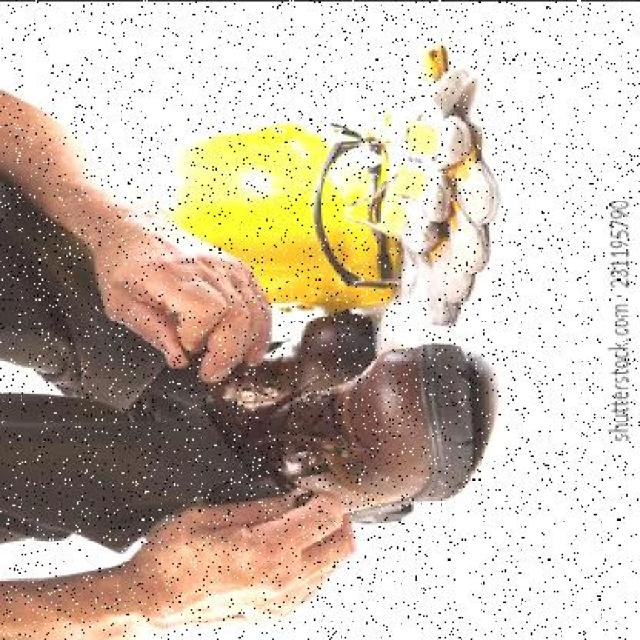shoes: (234, 345, 492, 524)
